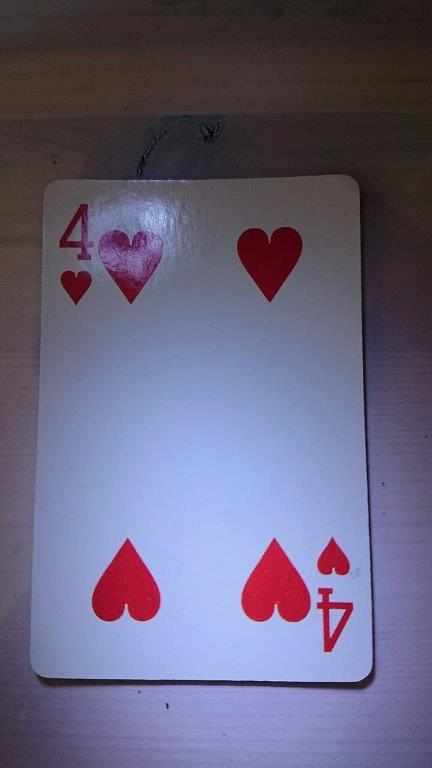4H: (27, 171, 377, 686)
